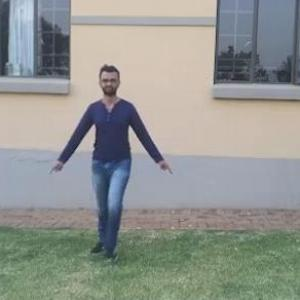land: (53, 71, 168, 246)
